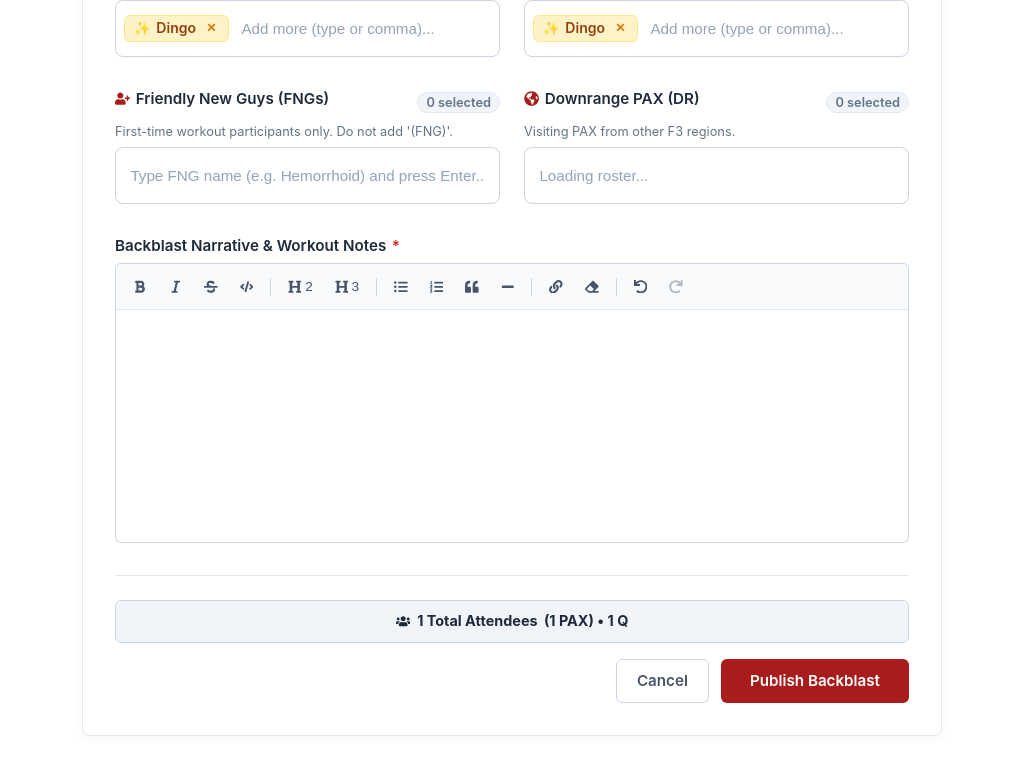
Test: BackblastForm › shows validation errors when submitting empty form
(page scrolled)
Step 1. Click the button "Publish Backblast" → [815, 680], box [721,658,909,702]
(page scrolled)
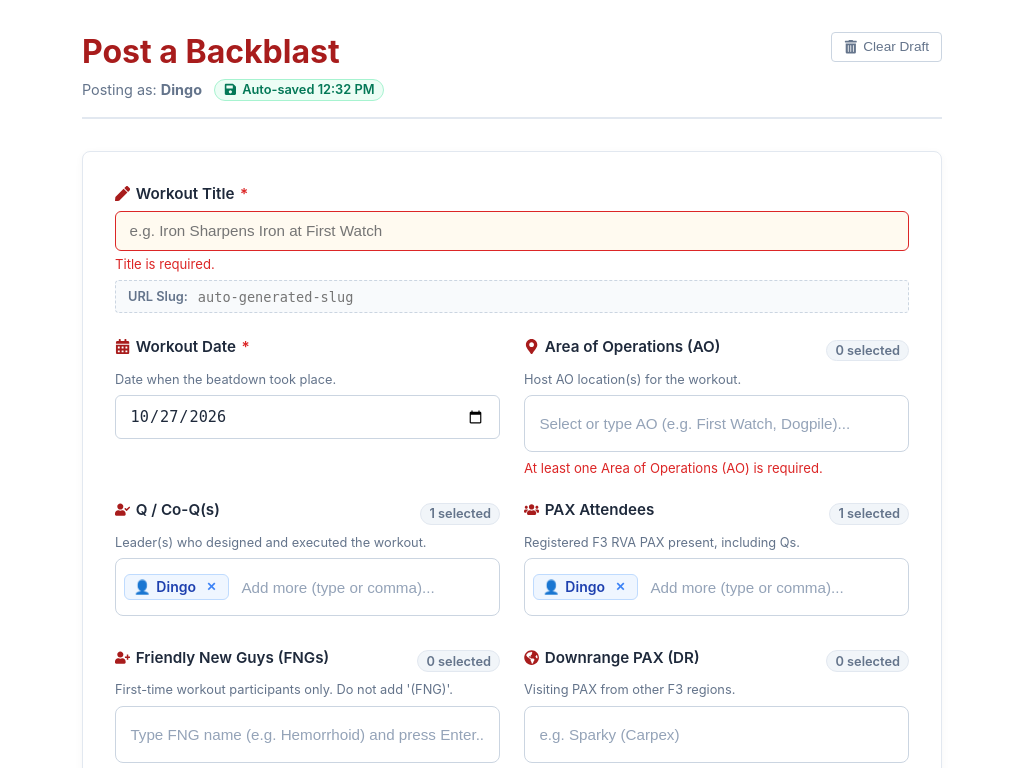
Expected: the text "Title is required." is shown, [115,256,215,272]
